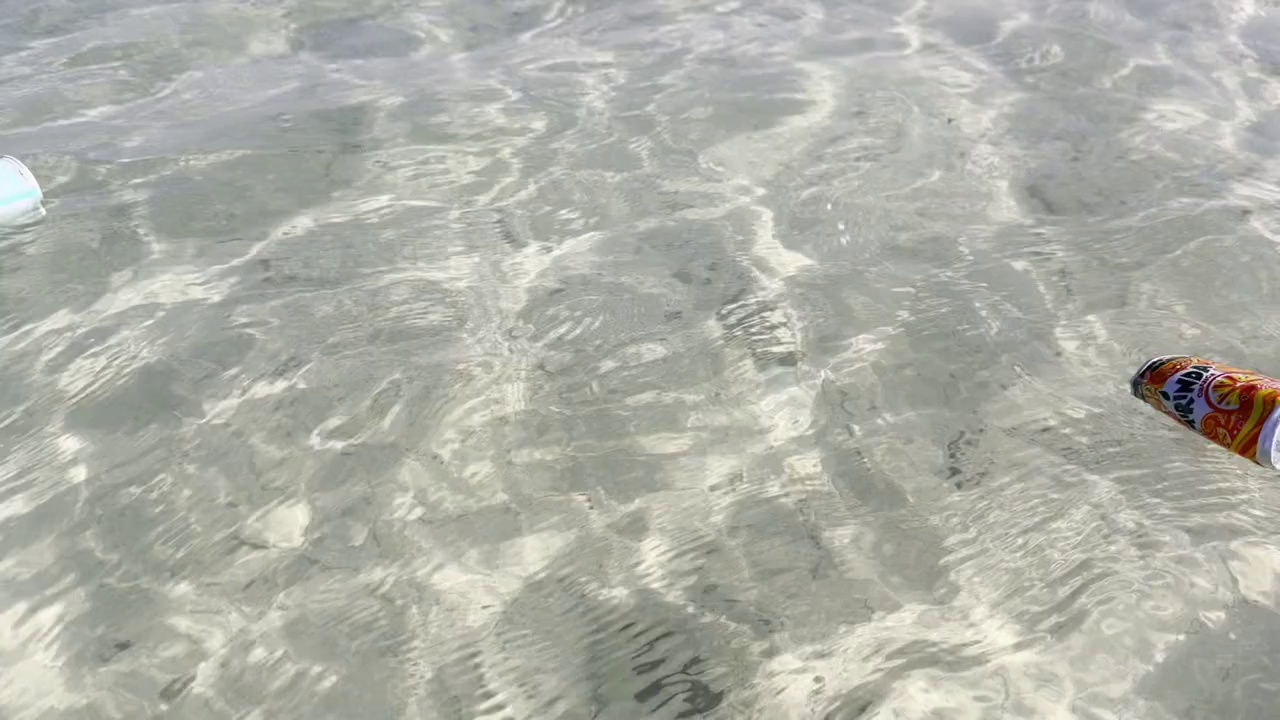debris: (1121, 346, 1280, 488), (0, 143, 53, 228)
